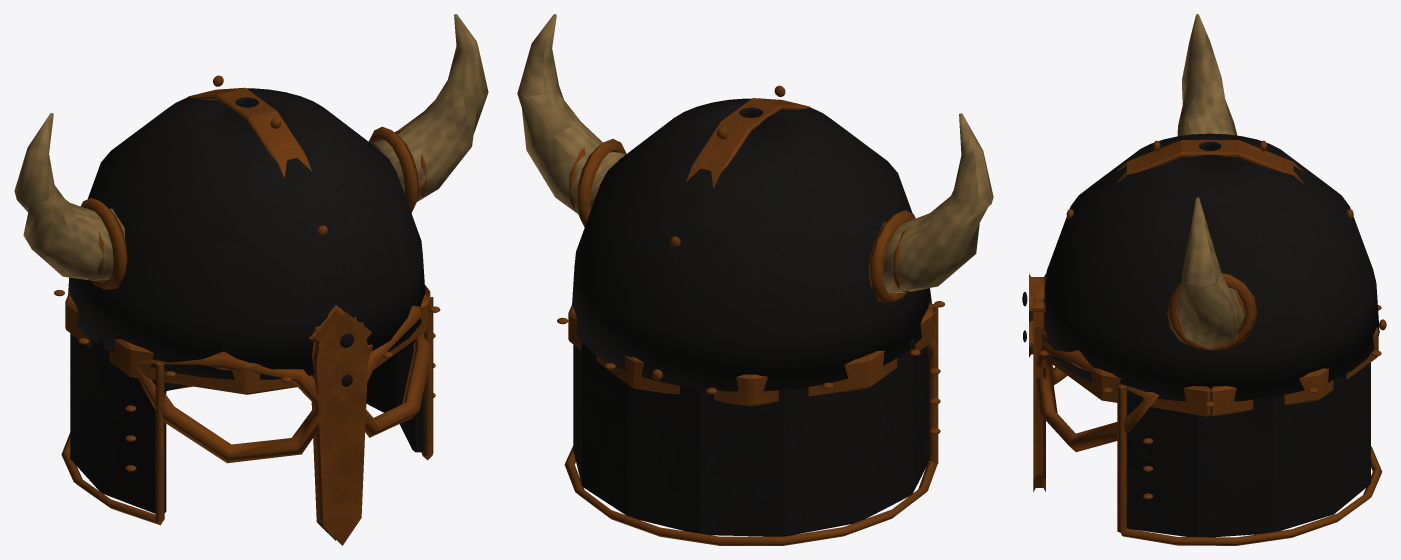
Rendered from viking_helmet_LOD1.glb.
3 views of the same model, side by side, from view 1: azimuth 30°, elevation 25°; view 2: azimuth 150°, elevation 25°; view 3: azimuth 270°, elevation 25° (orthographic). The views are drawn at different scales.
Parts seen in each view (by area): view 1: Closed crown open-bottom double-wall dome, Closed curved rear and side skirt, Long pointed nasal guard, Closed tapered horn -1, Closed tapered horn 1, Closed almond eye frame -1, Broad flat brow band, Closed almond eye frame 1, Flat sagittal brass band, Diamond brow plaque 0.053, Skirt vertical brass edge 3.69, Horn brass ferrule outer -1 (+4 smaller); view 2: Closed crown open-bottom double-wall dome, Closed curved rear and side skirt, Closed tapered horn -1, Closed tapered horn 1, Broad flat brow band, Skirt lower brass edge, Flat sagittal brass band, Horn brass ferrule outer -1, Horn brass ferrule outer 1, Skirt vertical brass edge 3.69; view 3: Closed crown open-bottom double-wall dome, Closed curved rear and side skirt, Closed tapered horn 1, Broad flat brow band, Closed tapered horn -1, Closed almond eye frame 1, Flat sagittal brass band, Skirt lower brass edge, Long pointed nasal guard, Horn brass ferrule outer 1, Skirt vertical brass edge -0.55, Diamond brow plaque 0.053.
Part boxes in pixels (x1=…): Closed crown open-bottom double-wall dome: x1=68, y1=88, x2=425, y2=379; Closed curved rear and side skirt: x1=70, y1=333, x2=424, y2=513; Long pointed nasal guard: x1=311, y1=317, x2=368, y2=545; Closed tapered horn -1: x1=14, y1=113, x2=124, y2=280; Closed tapered horn 1: x1=370, y1=14, x2=488, y2=201; Closed almond eye frame -1: x1=132, y1=351, x2=318, y2=463; Broad flat brow band: x1=65, y1=292, x2=428, y2=394; Closed almond eye frame 1: x1=365, y1=285, x2=432, y2=437; Flat sagittal brass band: x1=188, y1=87, x2=311, y2=177; Diamond brow plaque 0.053: x1=309, y1=305, x2=371, y2=365; Skirt vertical brass edge 3.69: x1=155, y1=362, x2=164, y2=521; Horn brass ferrule outer -1: x1=80, y1=198, x2=127, y2=289; Closed crown open-bottom double-wall dome: x1=572, y1=98, x2=930, y2=391; Closed curved rear and side skirt: x1=573, y1=339, x2=929, y2=536; Closed tapered horn -1: x1=878, y1=113, x2=993, y2=292; Closed tapered horn 1: x1=517, y1=14, x2=625, y2=213; Broad flat brow band: x1=568, y1=303, x2=933, y2=406; Skirt lower brass edge: x1=564, y1=446, x2=937, y2=545; Flat sagittal brass band: x1=686, y1=98, x2=810, y2=188; Horn brass ferrule outer -1: x1=869, y1=210, x2=915, y2=302; Horn brass ferrule outer 1: x1=576, y1=139, x2=626, y2=227; Skirt vertical brass edge 3.69: x1=929, y1=303, x2=938, y2=463; Closed crown open-bottom double-wall dome: x1=1044, y1=133, x2=1379, y2=401; Closed curved rear and side skirt: x1=1127, y1=362, x2=1370, y2=537; Closed tapered horn 1: x1=1176, y1=197, x2=1246, y2=348; Broad flat brow band: x1=1041, y1=327, x2=1378, y2=416; Closed tapered horn -1: x1=1177, y1=14, x2=1237, y2=136; Closed almond eye frame 1: x1=1035, y1=342, x2=1159, y2=452; Flat sagittal brass band: x1=1115, y1=140, x2=1304, y2=184; Skirt lower brass edge: x1=1121, y1=446, x2=1382, y2=545; Long pointed nasal guard: x1=1033, y1=296, x2=1045, y2=491; Horn brass ferrule outer 1: x1=1167, y1=273, x2=1257, y2=350; Skirt vertical brass edge -0.55: x1=1117, y1=385, x2=1126, y2=533; Diamond brow plaque 0.053: x1=1029, y1=274, x2=1045, y2=321.
Size of the model in its own units: 0.4772 by 0.4052 by 0.3459.
4 materials, 4 textured.
